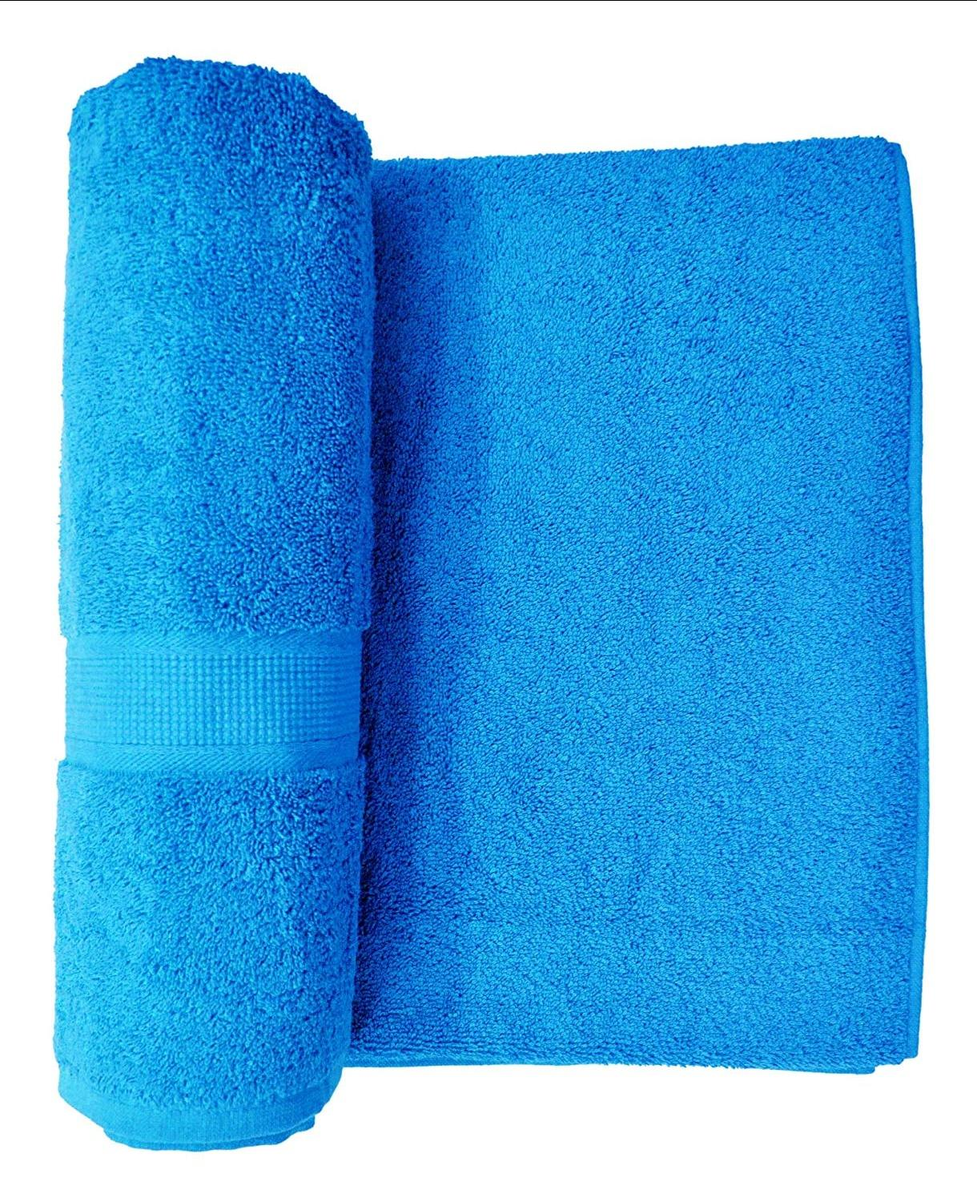Towel: (29, 0, 977, 1202)
